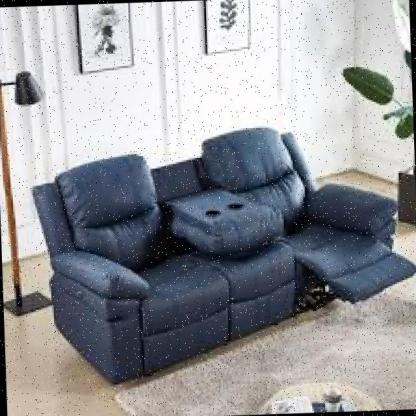Sofa: (16, 109, 416, 399)
